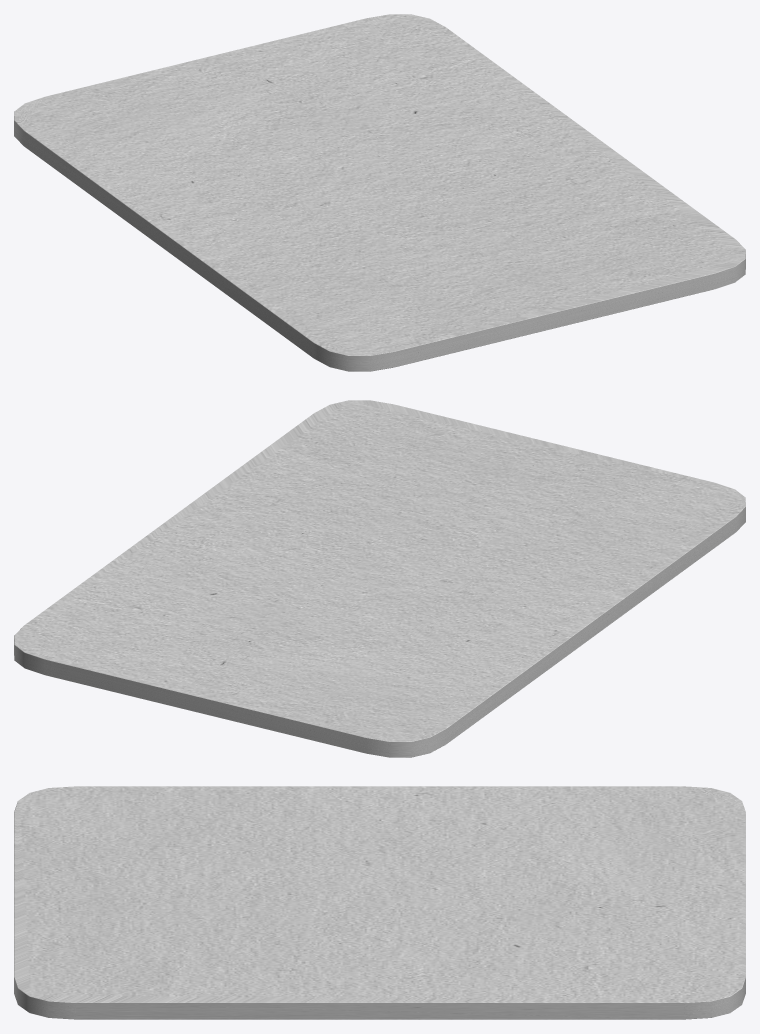
Rendered from Card.fbx.
3 renders of one model, top to bottom at view 1: azimuth 30°, elevation 25°; view 2: azimuth 150°, elevation 25°; view 3: azimuth 270°, elevation 25°, orthographic. The views are drawn at different scales.
Visible parts, largest first — view 1: Box007; view 2: Box007; view 3: Box007.
Part boxes in pixels (<box>): Box007: <box>14,14,745,371</box>; Box007: <box>14,400,745,757</box>; Box007: <box>14,786,745,1019</box>.
Bounding box in the file's own units: 350 × 500 × 12.78.
3 materials, 3 textured.
